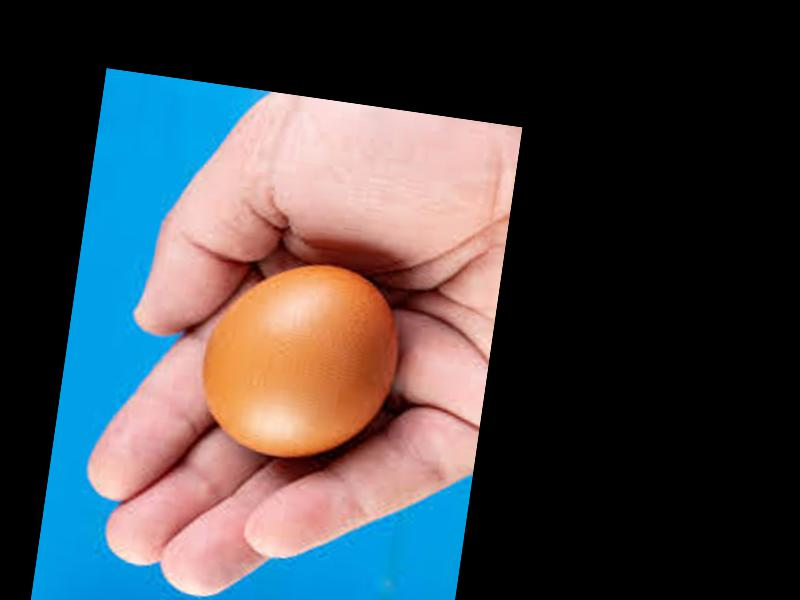Eggs: (192, 251, 404, 473)
